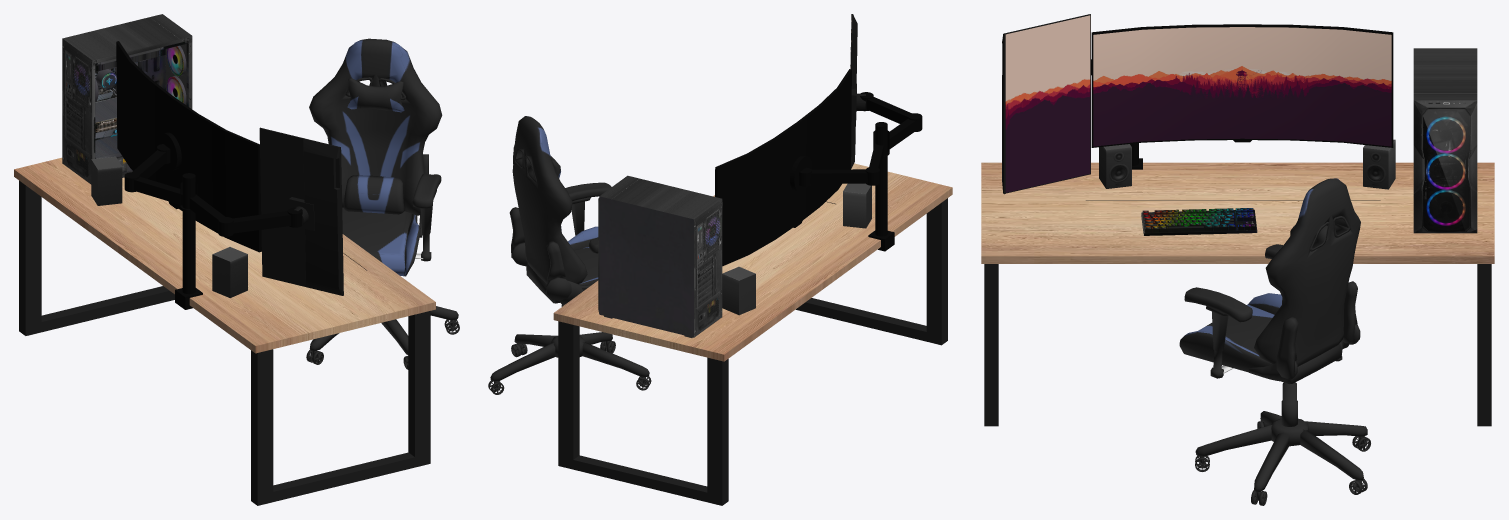
Rendered from gaming_setup.fbx.
The picture shows the model from 3 angles, left to right: view 1: azimuth 30°, elevation 25°; view 2: azimuth 150°, elevation 25°; view 3: azimuth 270°, elevation 25°; orthographic projection. The views are drawn at different scales.
Visible parts, largest first — view 1: desk, whole_boundary_Plane.004, Plane.006, Plane_Plane.001, Cylinder, Cube, Plane.001, Plane.003, Cube.003, Cube.004, Cube.002, Cube.005; view 2: desk, Plane_Plane.001, whole_boundary_Plane.004, Plane.006, Cube, Plane.003, Plane.001, Cube.005, Cylinder, Cube.003, Cube.002, Cube.004; view 3: desk, Plane.006, whole_boundary_Plane.004, Cylinder, Plane_Plane.001, Plane, Plane.003, Plane.001.
Part boxes in pixels (x1,y1,x2,y2): desk: (14,157,435,505); whole_boundary_Plane.004: (306,38,459,369); Plane.006: (116,41,261,252); Plane_Plane.001: (62,14,192,184); Cylinder: (259,127,343,295); Cube: (175,173,202,309); Plane.001: (212,247,247,297); Plane.003: (91,156,122,205); Cube.003: (232,207,302,233); Cube.004: (124,172,182,205); Cube.002: (189,194,233,236); Cube.005: (132,144,170,178); desk: (553,163,952,505); Plane_Plane.001: (598,175,722,337); whole_boundary_Plane.004: (488,116,651,394); Plane.006: (715,69,851,266); Cube: (868,122,894,251); Plane.003: (722,266,755,315); Plane.001: (843,183,871,228); Cube.005: (799,167,867,186); Cylinder: (850,14,865,168); Cube.003: (860,92,911,123); Cube.002: (889,113,922,148); Cube.004: (865,142,883,185); desk: (981,162,1494,426); Plane.006: (1091,24,1393,147); whole_boundary_Plane.004: (1179,178,1370,505); Cylinder: (1002,14,1090,194); Plane_Plane.001: (1413,48,1477,233); Plane: (1141,208,1257,235); Plane.003: (1363,139,1395,189); Plane.001: (1099,144,1131,188).
Bounding box in the file's own units: 604 × 527 × 700.
